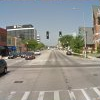crosswalk: (5, 87, 99, 100)
